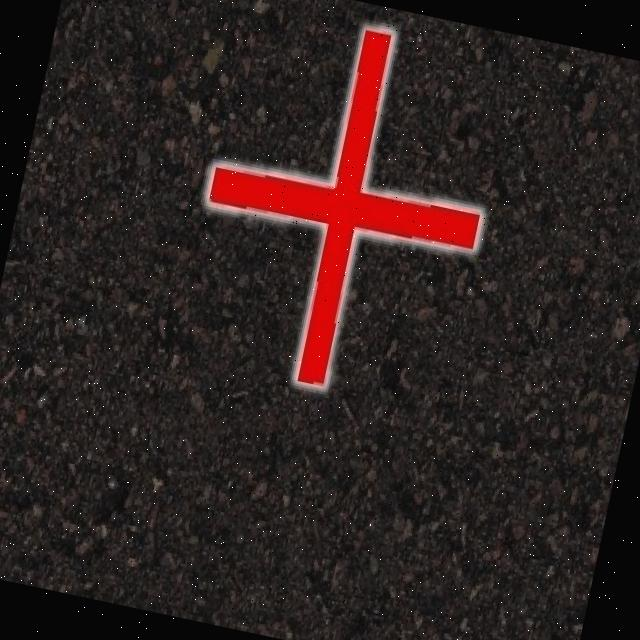x_marker: (173, 1, 514, 410)
